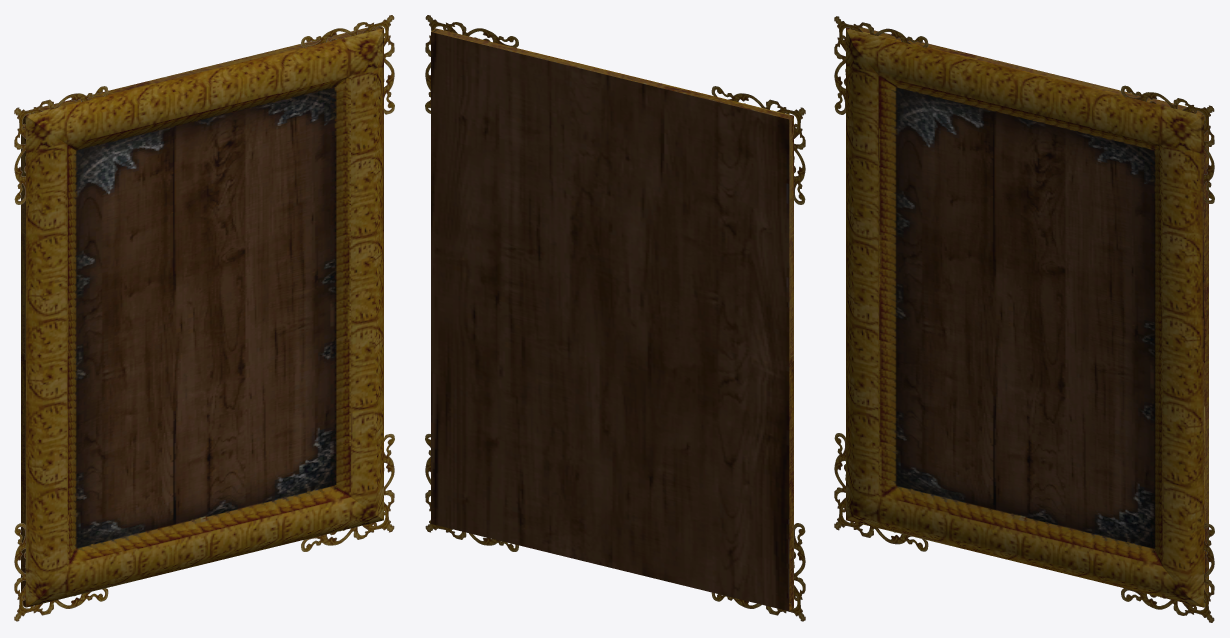
Rendered from mirror_broken.dae.
The picture shows the model from 3 angles, left to right: view 1: azimuth 30°, elevation 25°; view 2: azimuth 150°, elevation 25°; view 3: azimuth 330°, elevation 25°; orthographic projection.
Visible parts, largest first — view 1: polySurface7, polySurface5, polySurface3, polySurface4, polySurface6; view 2: polySurface7, polySurface4, polySurface3, polySurface6, polySurface5; view 3: polySurface7, polySurface5, polySurface3, polySurface6, polySurface4.
Boxes of the visible parts, x1=… form: polySurface7: x1=21, y1=26, x2=383, y2=607; polySurface5: x1=301, y1=434, x2=394, y2=551; polySurface3: x1=14, y1=523, x2=108, y2=621; polySurface4: x1=14, y1=86, x2=108, y2=204; polySurface6: x1=301, y1=15, x2=394, y2=114; polySurface7: x1=431, y1=28, x2=793, y2=611; polySurface4: x1=711, y1=86, x2=805, y2=204; polySurface3: x1=711, y1=523, x2=805, y2=621; polySurface6: x1=425, y1=15, x2=518, y2=113; polySurface5: x1=425, y1=434, x2=518, y2=551; polySurface7: x1=846, y1=25, x2=1208, y2=607; polySurface5: x1=1121, y1=523, x2=1214, y2=622; polySurface3: x1=834, y1=433, x2=928, y2=551; polySurface6: x1=1121, y1=85, x2=1214, y2=203; polySurface4: x1=834, y1=16, x2=928, y2=114.
Bounding box in the file's own units: 1 × 1.29 × 0.0421.
